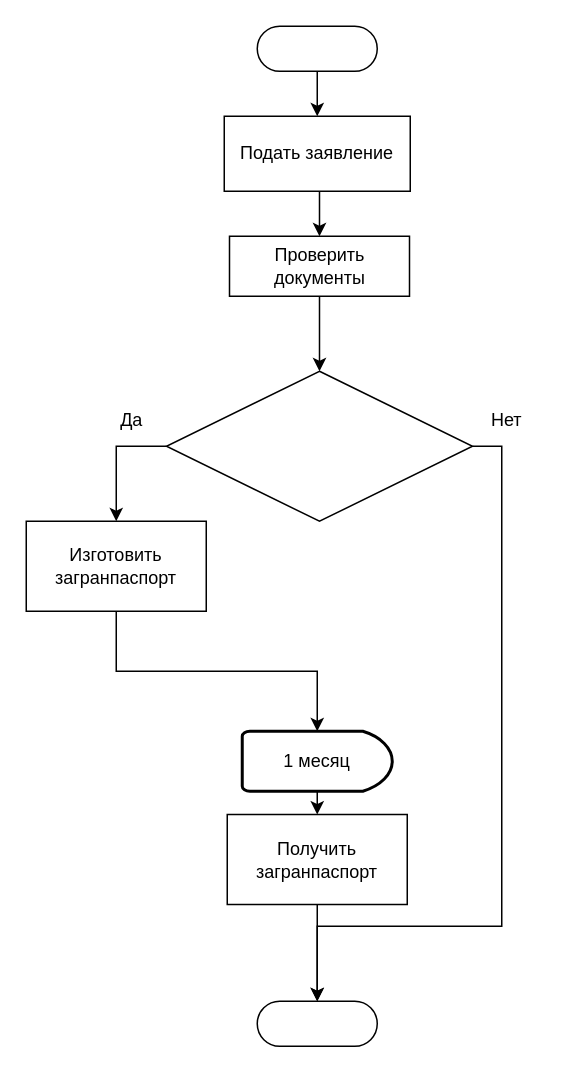
The diagram is 563 pixels wide and 1073 high, and some of its shapes have lost their labels. The centre of each missing label's shape, as x and y in pixels:
"Документы в порядке?" belongs at (x=318, y=445).
"Конец" belongs at (x=316, y=1023).
"Начало" belongs at (x=316, y=48).
